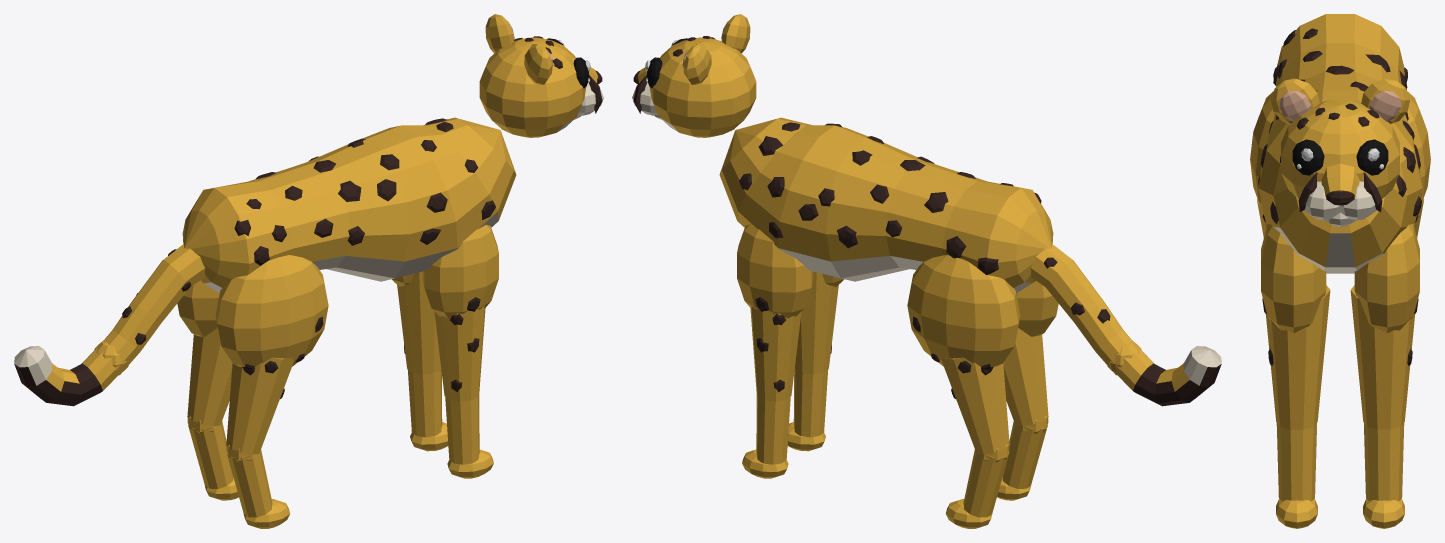
File: cheetah.glb
3 renders of one model, left to right at view 1: azimuth 30°, elevation 25°; view 2: azimuth 150°, elevation 25°; view 3: azimuth 270°, elevation 25°, orthographic. The views are drawn at different scales.
Parts seen in each view (by area): view 1: body, leg_br, leg_fr, head, leg_bl, leg_fl, tail, tail_2; view 2: body, leg_bl, leg_fl, head, leg_br, leg_fr, tail, tail_2; view 3: body, head, leg_fl, leg_fr, leg_br, leg_bl.
Boxes of the visible parts, x1,y1,x2,y2 form: body: (182,117,516,292); leg_br: (215,255,328,528); leg_fr: (422,225,498,478); head: (479,14,603,137); leg_bl: (177,281,238,500); leg_fl: (392,271,448,451); tail: (104,244,205,375); tail_2: (14,340,128,406); body: (719,117,1053,292); leg_bl: (907,255,1020,528); leg_fl: (737,224,813,478); head: (632,14,756,137); leg_br: (997,281,1058,500); leg_fr: (787,271,843,451); tail: (1030,244,1131,375); tail_2: (1107,340,1221,406); body: (1258,14,1422,273); head: (1271,78,1409,226); leg_fl: (1350,224,1419,528); leg_fr: (1261,224,1330,528); leg_br: (1250,91,1274,237); leg_bl: (1407,91,1430,237).
Size of the model in its own units: 2.34 by 1.59 by 0.54.
